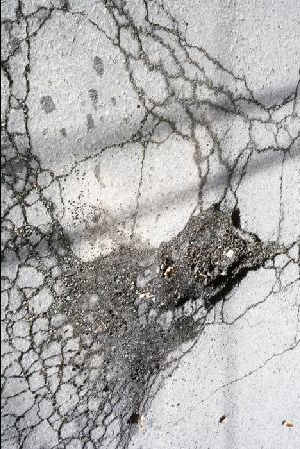pothole: (154, 199, 288, 316)
